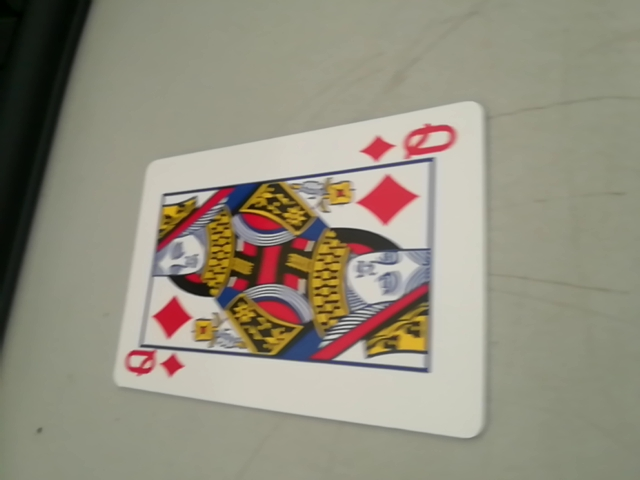fk q: (360, 120, 466, 165), (117, 345, 189, 387)
